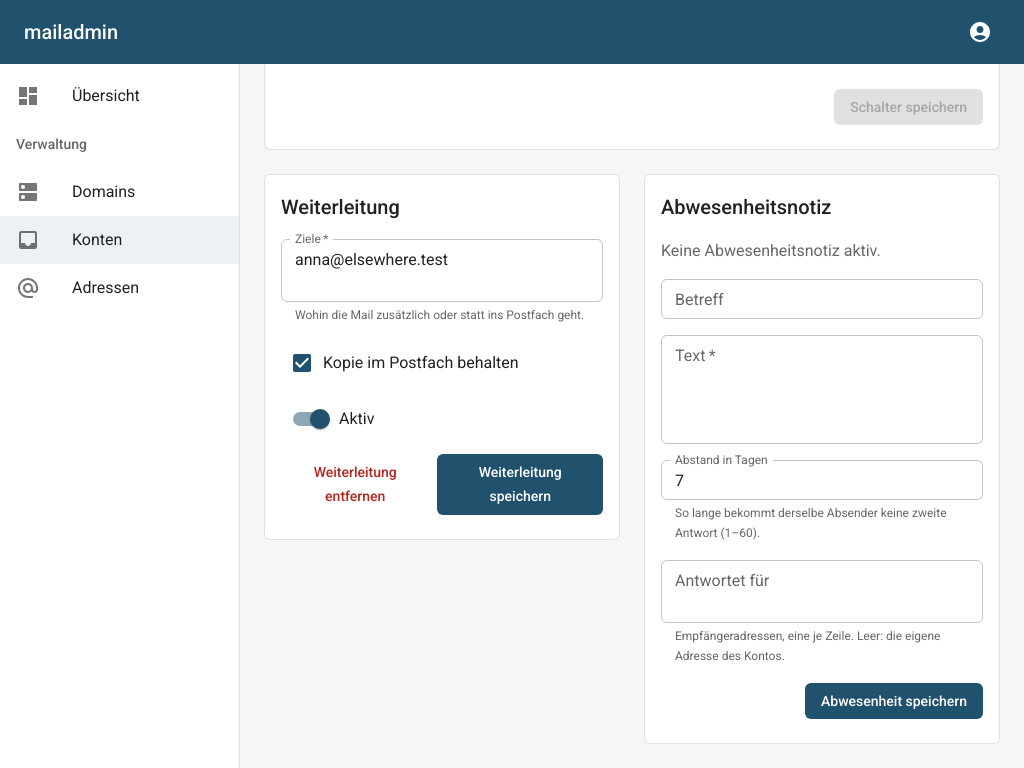
Test: forwards on the account page (A3) › removes a forward after confirmation
(page scrolled)
Click the button "Weiterleitung entfernen". click: (355, 484)
box: x1=281 y1=454 x2=430 y2=515
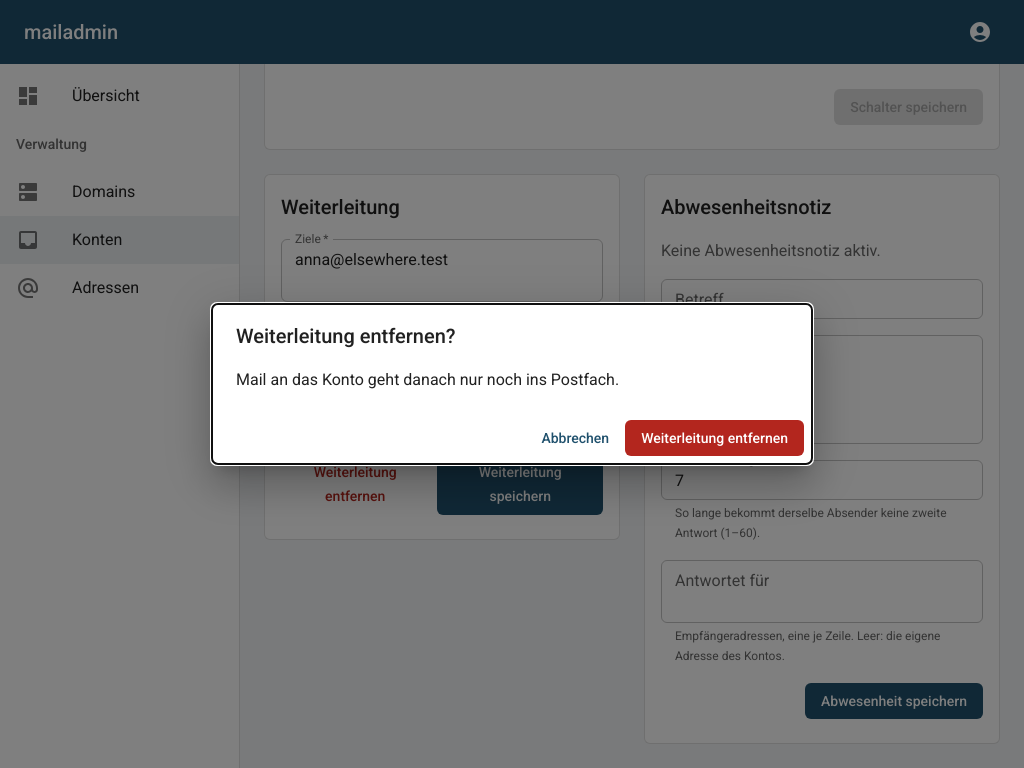
Click the button "Weiterleitung entfernen". click: (715, 438)
box: x1=625 y1=420 x2=804 y2=456
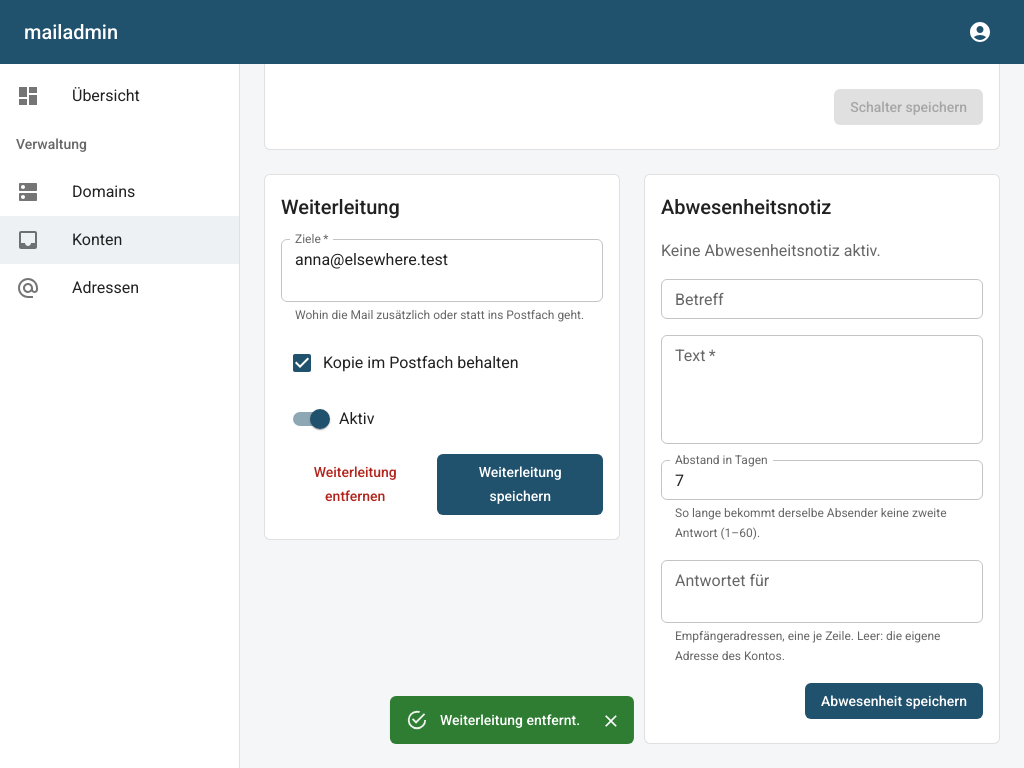
Result: the text "Weiterleitung entfernt." is shown at x1=440 y1=712 x2=580 y2=728
